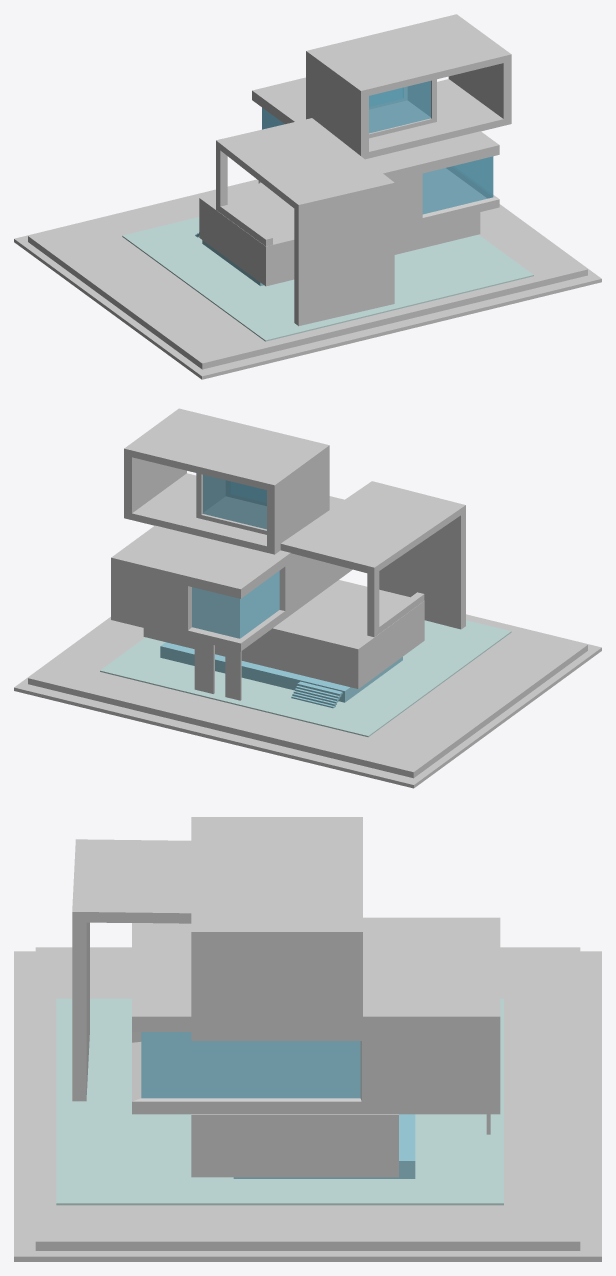
The model's file is building 1.fbx.
The picture shows the model from 3 angles, top to bottom: view 1: azimuth 30°, elevation 25°; view 2: azimuth 150°, elevation 25°; view 3: azimuth 270°, elevation 25°; orthographic projection. The views are drawn at different scales.
Parts seen in each view (by area): view 1: Cube.003; view 2: Cube.003; view 3: Cube.003.
Boxes of the visible parts, x1=… form: Cube.003: x1=14, y1=14, x2=601, y2=379; Cube.003: x1=14, y1=408, x2=601, y2=788; Cube.003: x1=14, y1=817, x2=601, y2=1261.
Size of the model in its own units: 247 by 122 by 201.
